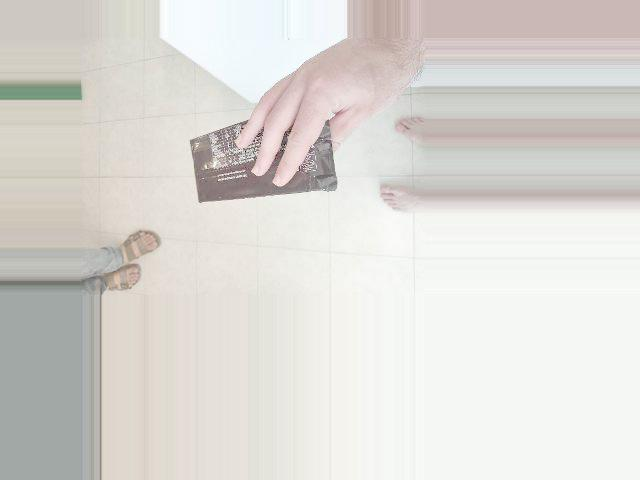chocolate: (169, 142, 283, 313)
